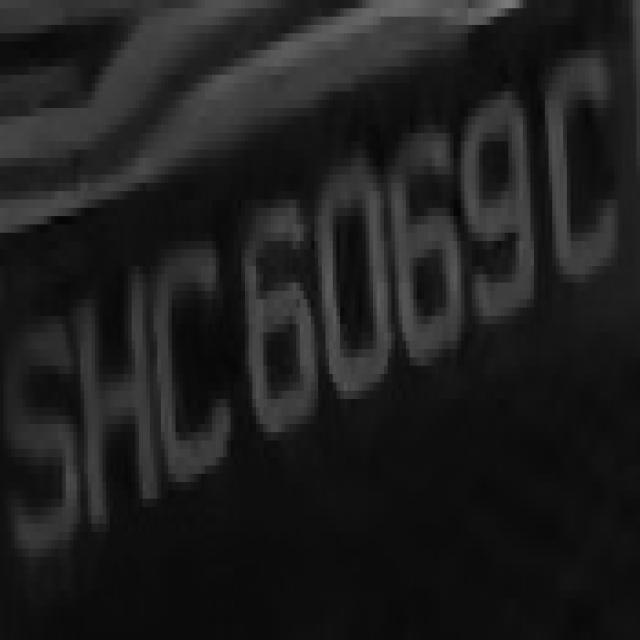0: (307, 124, 399, 416)
6: (230, 167, 314, 466), (380, 116, 468, 366)
9: (461, 58, 530, 349)
C: (154, 224, 234, 516), (538, 67, 626, 299)
H: (73, 258, 161, 540)
S: (4, 282, 84, 574)
